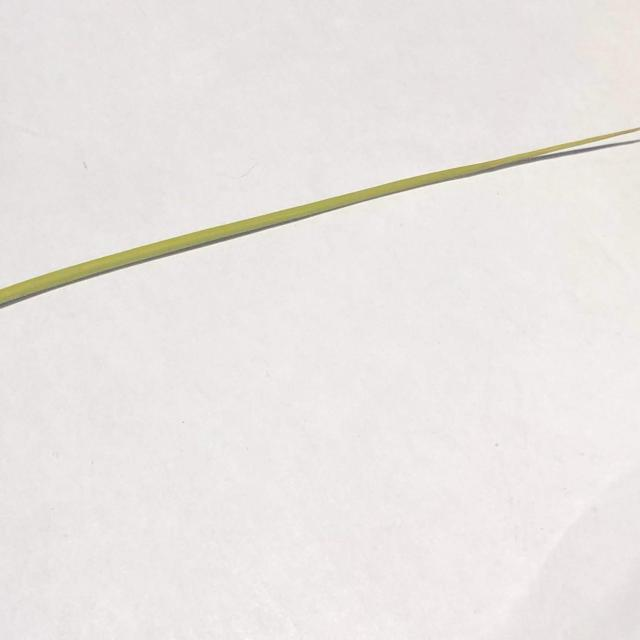Rice_Healthy: (0, 127, 640, 308)
